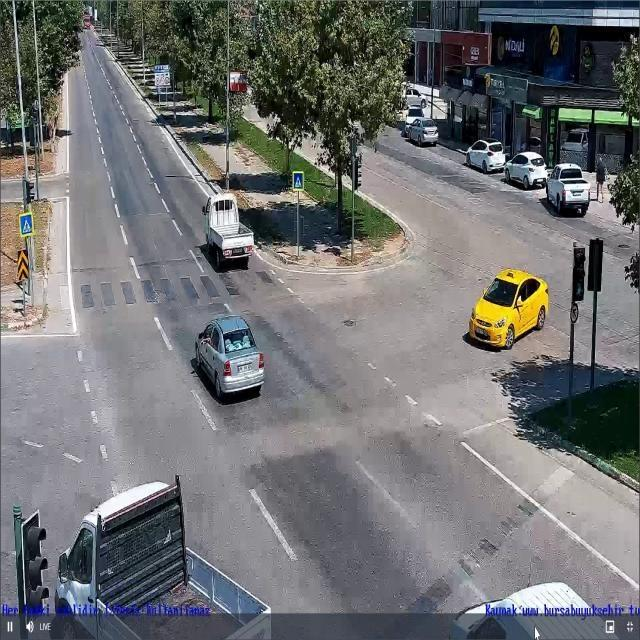Car: (468, 268, 548, 349), (193, 319, 266, 396), (545, 163, 591, 214), (504, 151, 549, 189), (467, 139, 507, 173), (406, 117, 440, 146), (561, 128, 589, 154), (404, 88, 428, 109)
Truck: (204, 192, 256, 270)
